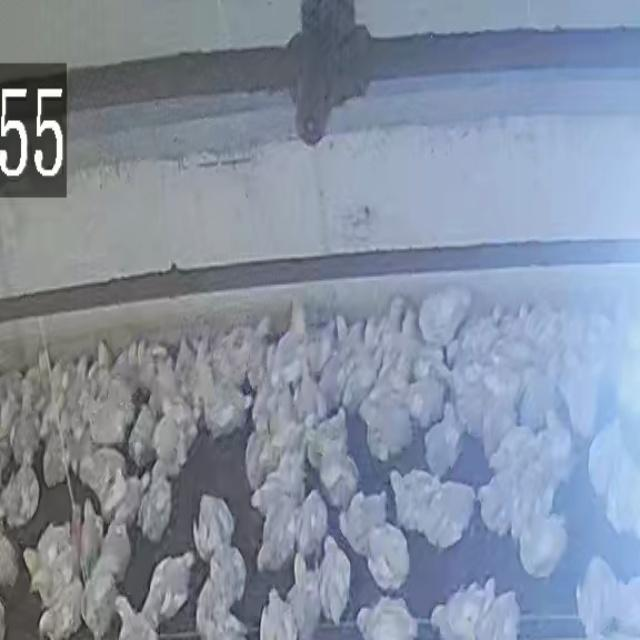chicken: (417, 482, 472, 548), (145, 552, 196, 622), (586, 412, 629, 492), (510, 463, 557, 536), (270, 295, 307, 386), (0, 449, 42, 528), (257, 498, 299, 575), (576, 556, 614, 640), (339, 488, 387, 554), (420, 284, 472, 344), (516, 517, 567, 577), (316, 535, 349, 626), (366, 523, 408, 594), (80, 566, 120, 640), (138, 462, 174, 544), (604, 450, 640, 532), (390, 464, 432, 534), (464, 589, 521, 640), (424, 401, 464, 473), (157, 400, 198, 470), (190, 493, 233, 559), (287, 552, 318, 640), (538, 408, 573, 484), (200, 382, 252, 433), (74, 447, 127, 497), (250, 468, 310, 512), (30, 546, 77, 602), (354, 597, 415, 640), (22, 521, 72, 573), (477, 474, 523, 530), (342, 348, 384, 408), (425, 590, 475, 640), (10, 392, 42, 468), (37, 585, 81, 640), (75, 499, 106, 577), (293, 358, 327, 428), (365, 408, 410, 460), (110, 472, 151, 524), (310, 409, 348, 465), (192, 581, 232, 632), (260, 588, 299, 640), (98, 520, 132, 579), (323, 445, 357, 504), (117, 594, 160, 640), (212, 544, 244, 605), (296, 490, 326, 555), (490, 428, 528, 473), (44, 426, 71, 489), (246, 415, 268, 488), (407, 379, 442, 423)
